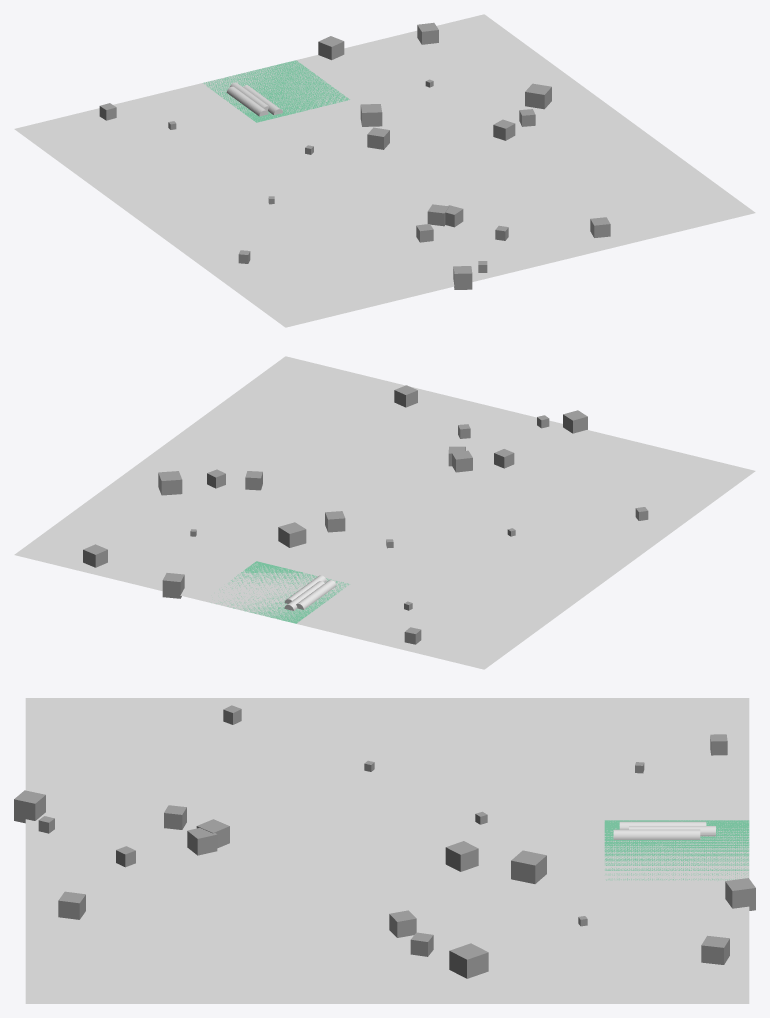
3 views of the same model, one above another, from view 1: azimuth 30°, elevation 25°; view 2: azimuth 150°, elevation 25°; view 3: azimuth 270°, elevation 25° (orthographic). The views are drawn at different scales.
Parts seen in each view (by area): view 1: Plane, Desert Plane.002, Cube.007; view 2: Plane, Desert Plane.002, Cube.015, Cube.007, Cube.006; view 3: Plane, Desert Plane.002, Cube.007, Cube.015, Palm Tree 3, Cube.016, Cube.006, Cube.018, Cube.017, Cube.002, Cube.013, Cube.010 (+1 smaller).
Boxes of the visible parts, box(x1,y1,x2,y2) form: Plane: box(14, 14, 755, 327); Desert Plane.002: box(203, 60, 349, 122); Cube.007: box(525, 83, 551, 109); Plane: box(14, 356, 755, 669); Desert Plane.002: box(216, 561, 349, 623); Cube.015: box(278, 522, 306, 547); Cube.007: box(158, 471, 182, 495); Cube.006: box(162, 573, 184, 598); Plane: box(25, 698, 749, 1003); Desert Plane.002: box(604, 820, 749, 880); Cube.007: box(449, 943, 488, 978); Cube.015: box(511, 850, 546, 883); Palm Tree 3: box(613, 829, 700, 839); Cube.016: box(14, 790, 45, 823); Cube.006: box(725, 878, 755, 910); Cube.018: box(445, 841, 478, 871); Cube.017: box(701, 935, 729, 964); Cube.002: box(187, 828, 217, 855); Cube.013: box(58, 891, 85, 919); Cube.010: box(389, 910, 416, 937).
Bounding box in the file's own units: 50 × 1.96 × 51.27.
